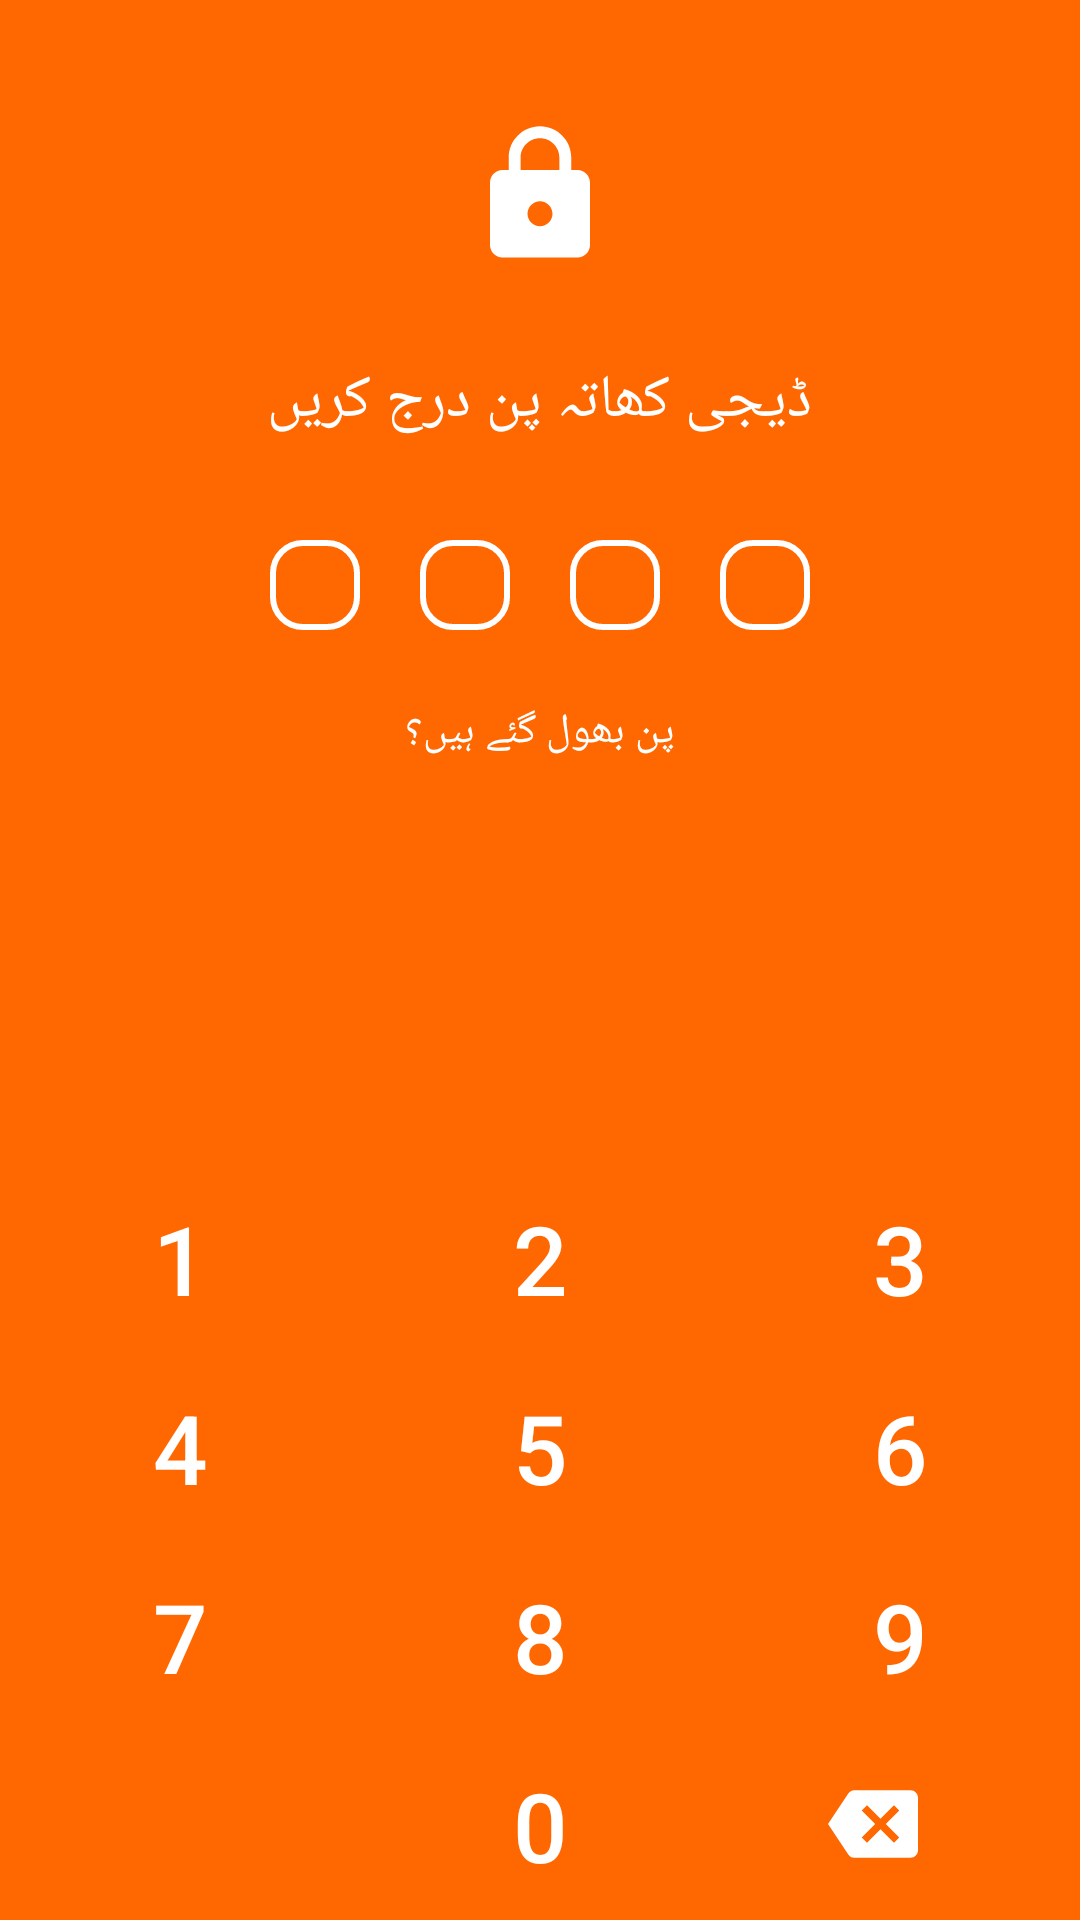

Named icons in this screenshot (1080 × 1920) and their bounding boxes, (x1, y1, x2, y2):
lock: (490, 126, 590, 258)
